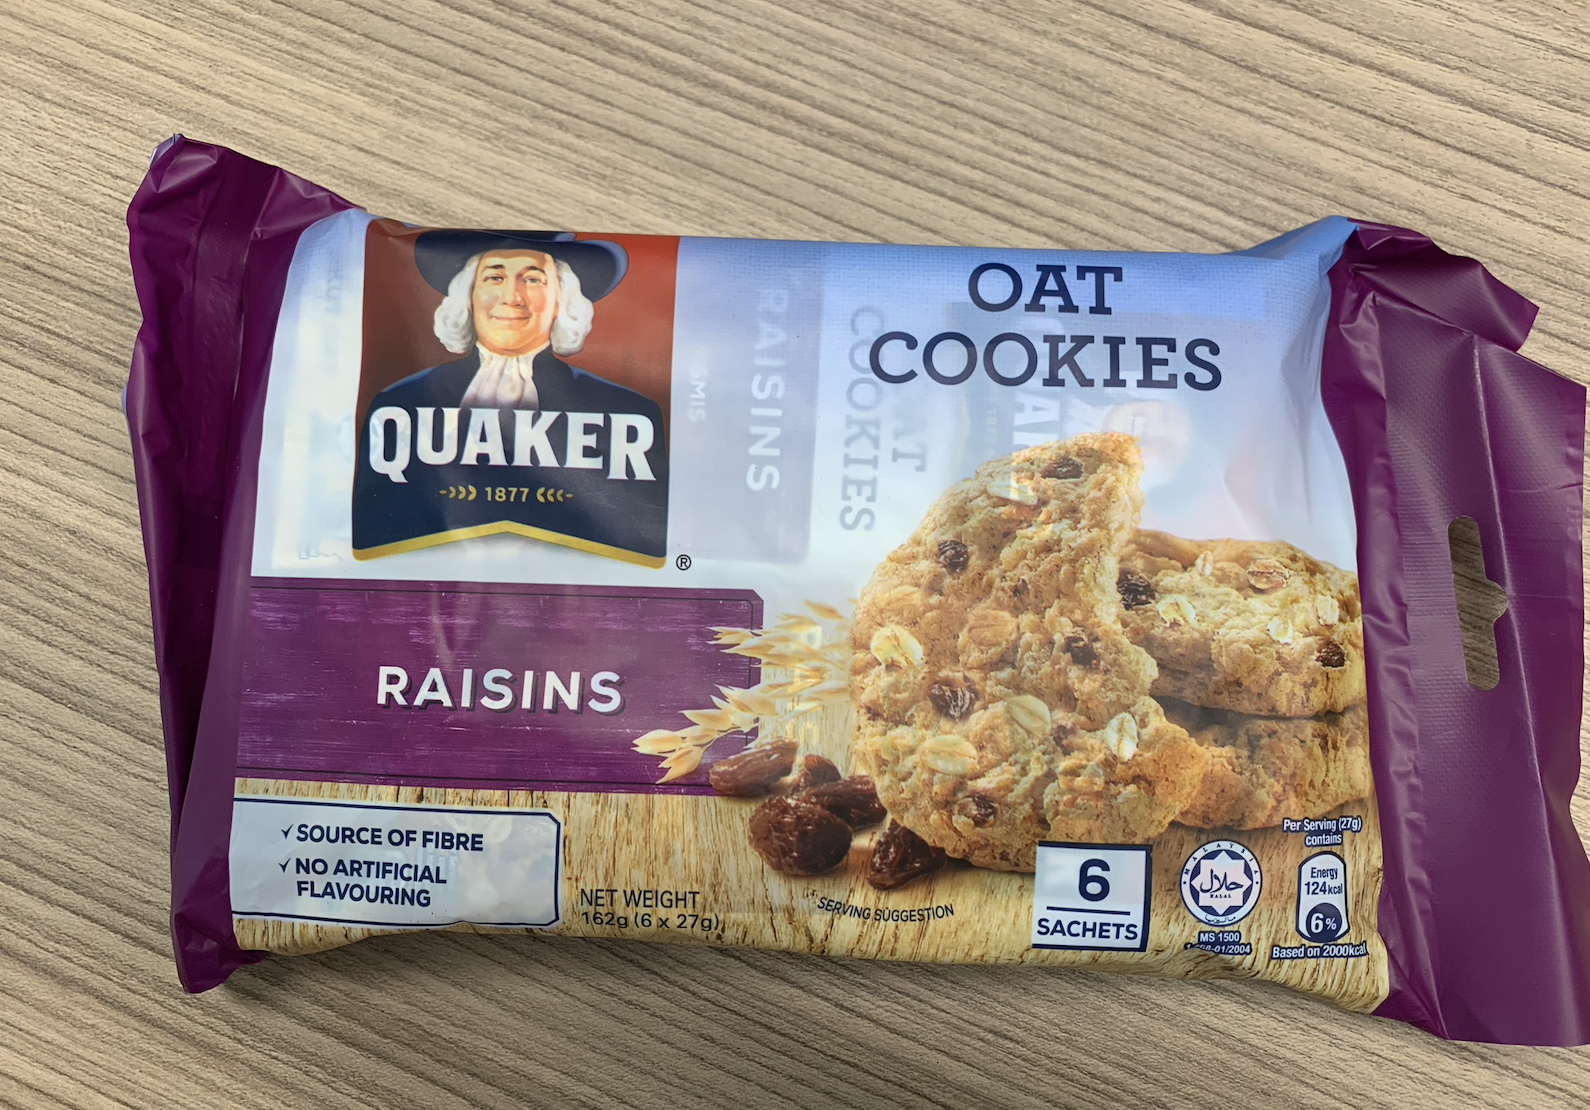cookies_100g-199g: (239, 256, 1374, 952)
